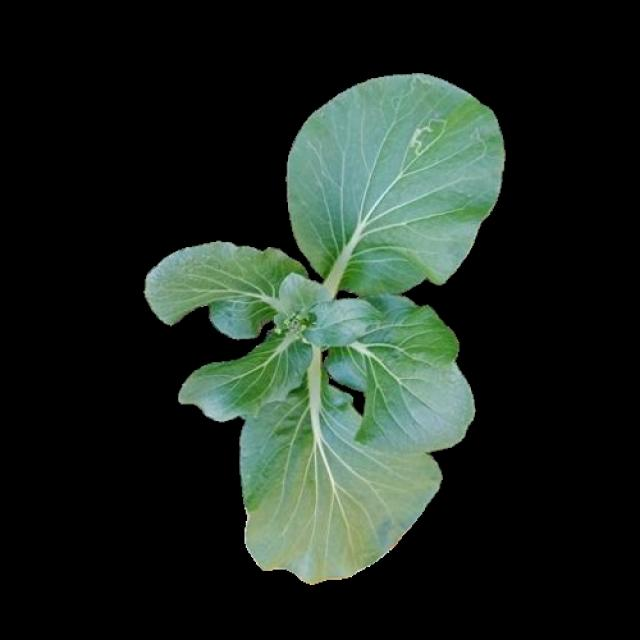mature: (144, 73, 506, 580)
unhealthy: (294, 74, 506, 273)
